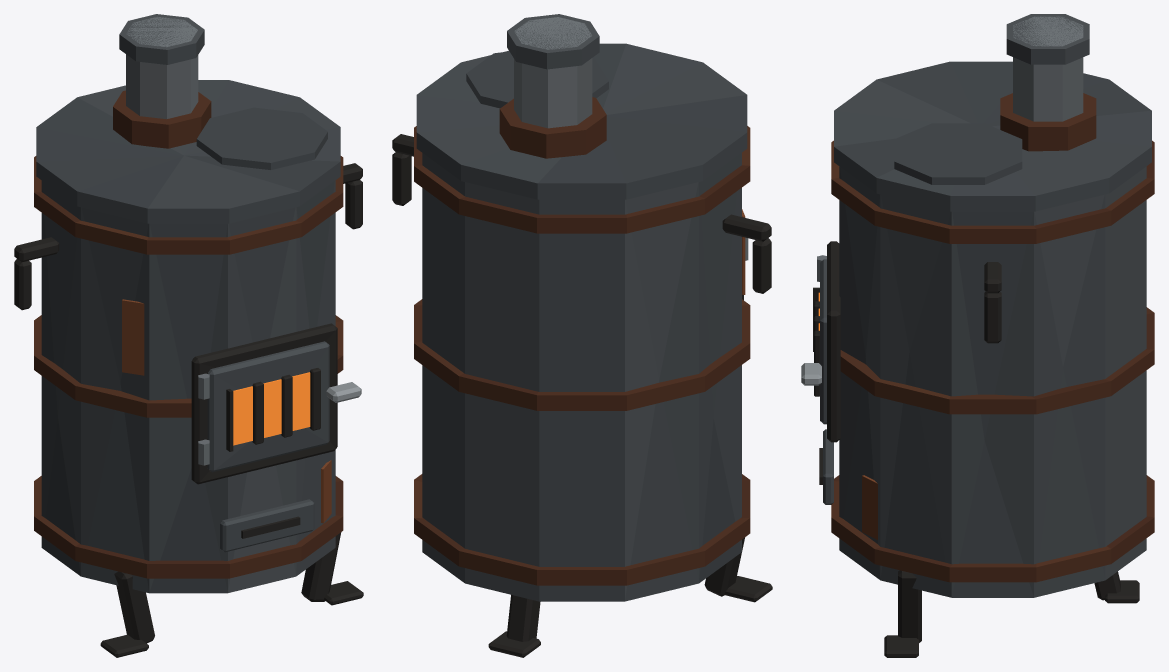
The model's file is stove_heat_stalnaya_bochka_idle.glb.
The picture shows the model from 3 angles, left to right: view 1: azimuth 30°, elevation 25°; view 2: azimuth 150°, elevation 25°; view 3: azimuth 270°, elevation 25°; orthographic projection. The views are drawn at different scales.
Visible parts, largest first — view 1: stove_heat_stalnaya_bochka_idle; view 2: stove_heat_stalnaya_bochka_idle; view 3: stove_heat_stalnaya_bochka_idle.
Part boxes in pixels (box(x1,y1,x2,y2)): stove_heat_stalnaya_bochka_idle: box(14, 14, 363, 657); stove_heat_stalnaya_bochka_idle: box(392, 14, 772, 657); stove_heat_stalnaya_bochka_idle: box(801, 14, 1154, 657).
Bounding box in the file's own units: 0.6 × 0.9024 × 0.5108.
2 materials, 2 textured.
